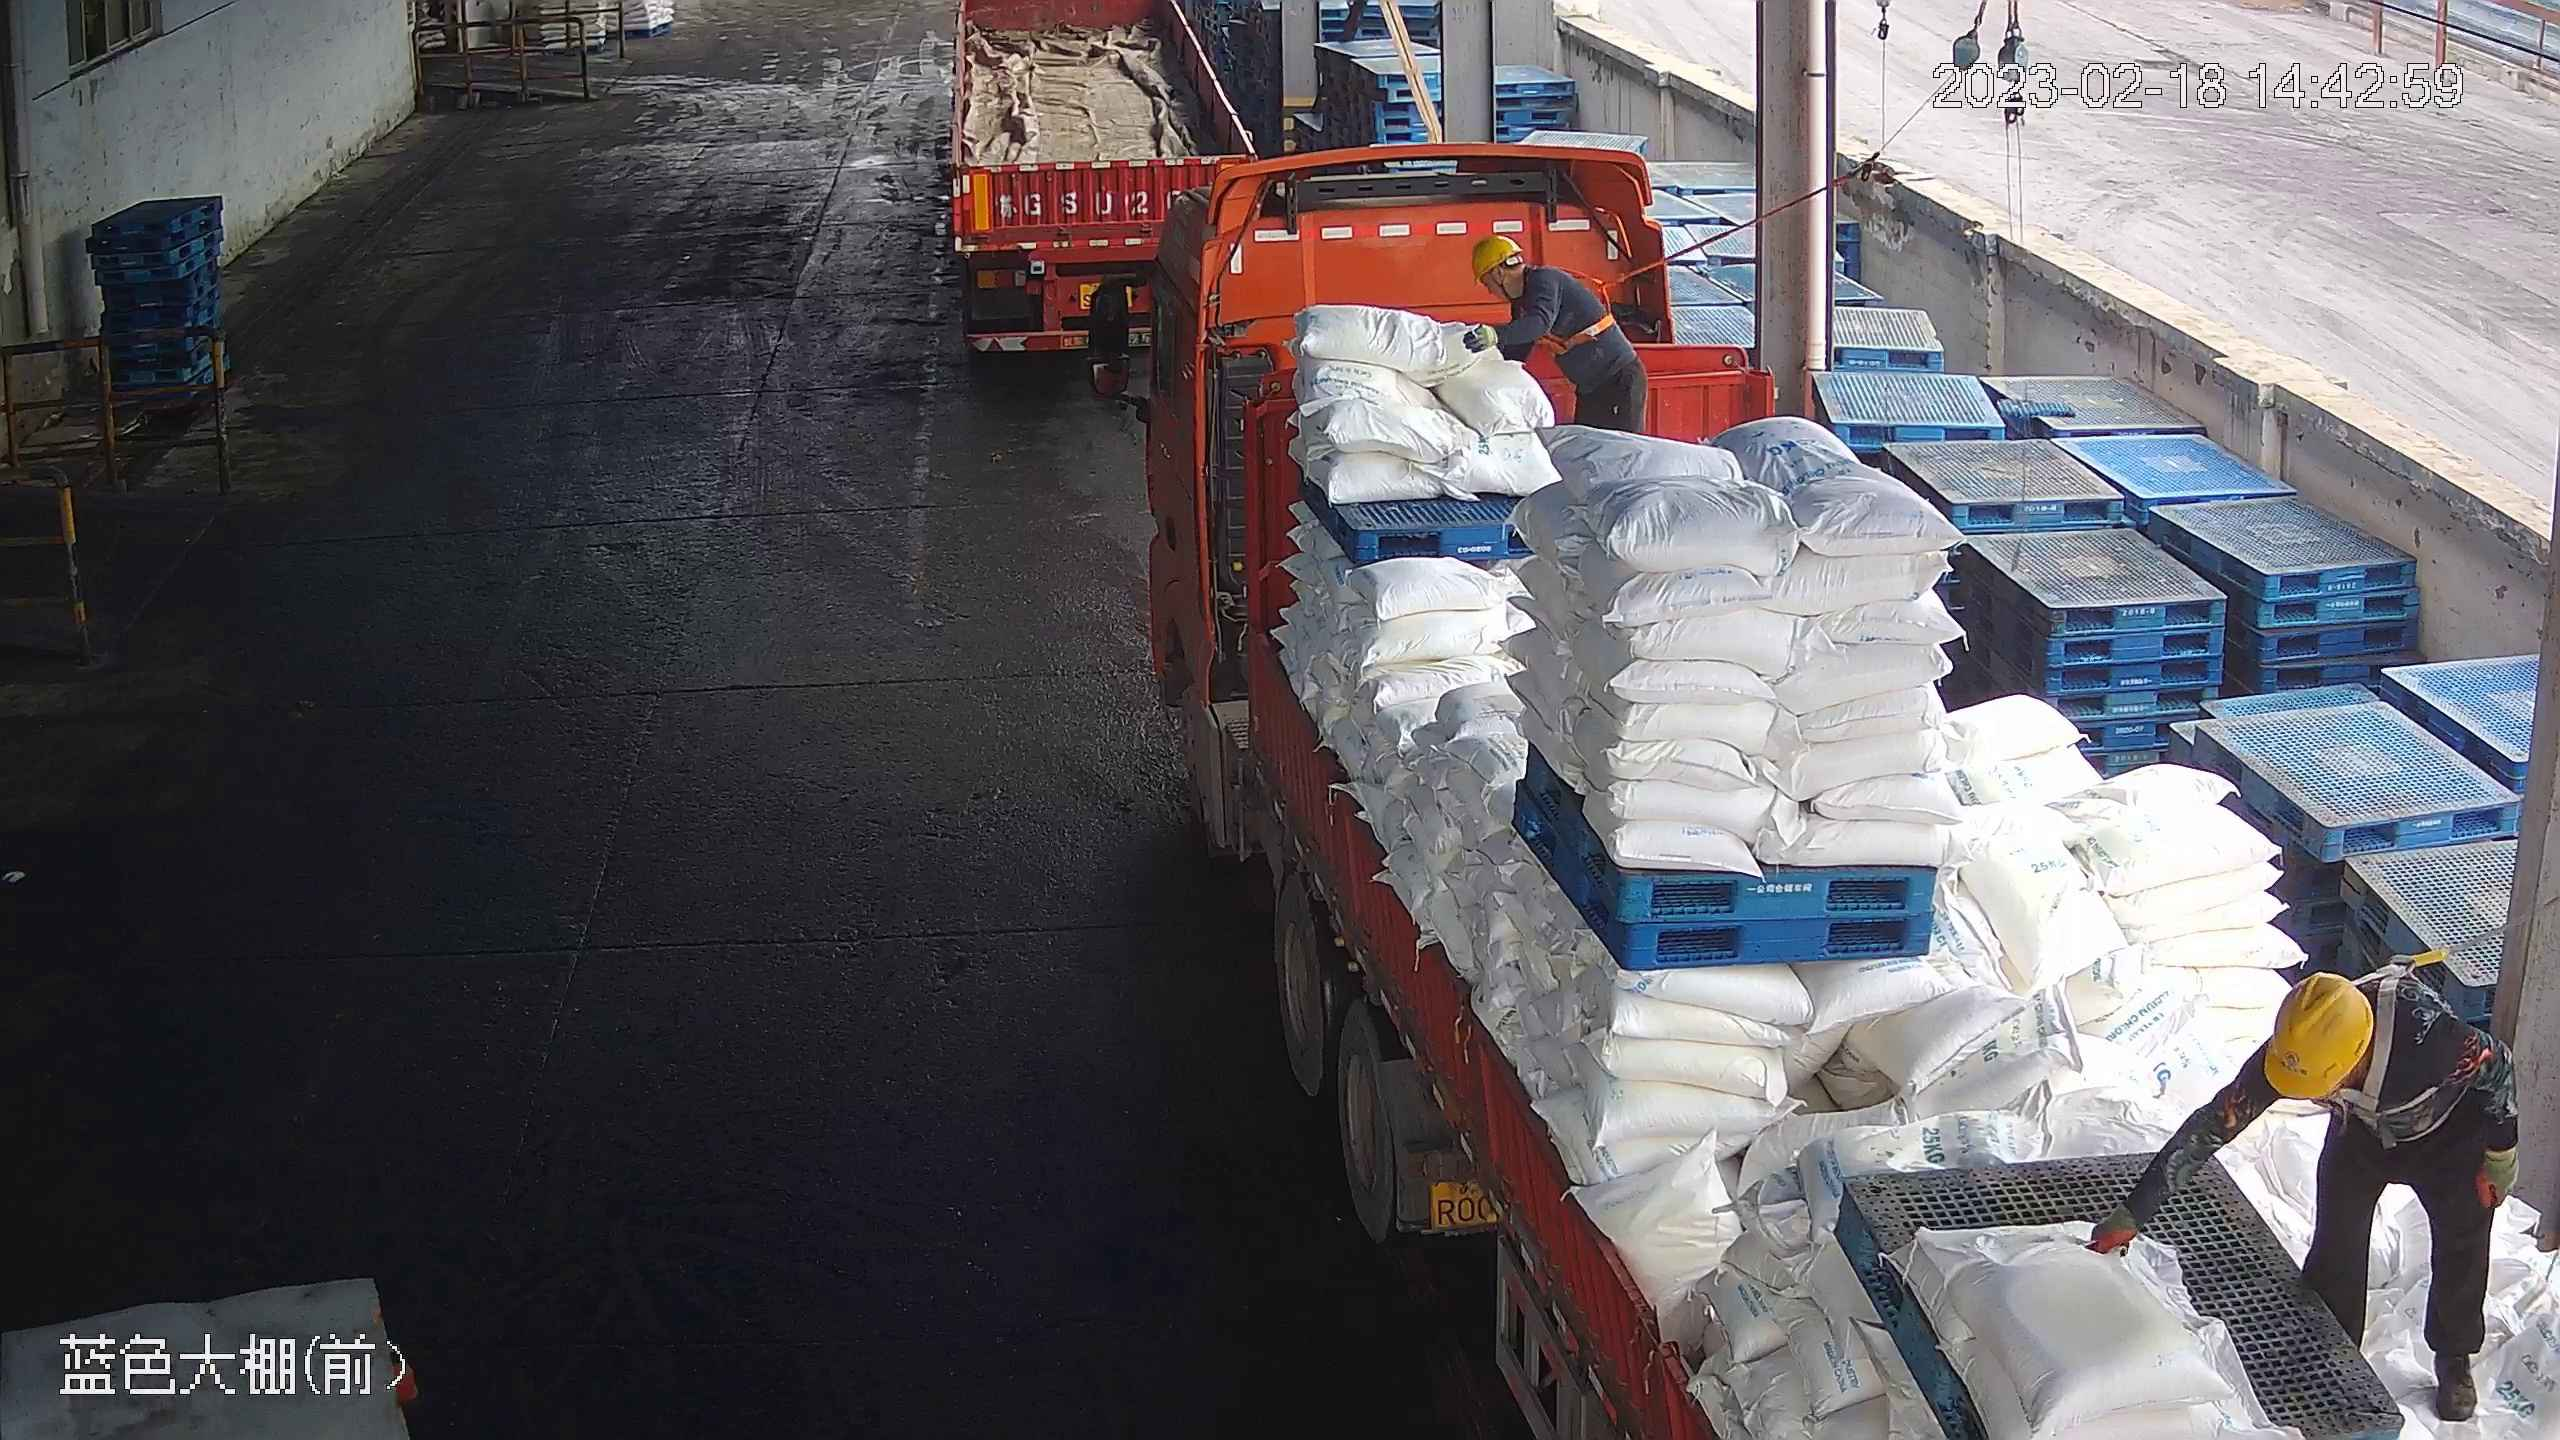belt: (2353, 949, 2479, 1137), (1535, 263, 1627, 352)
head: (2264, 963, 2455, 1127), (1466, 230, 1581, 321)
helmet: (2263, 973, 2372, 1103), (1465, 230, 1522, 284)
people: (2086, 958, 2528, 1417), (1464, 227, 1648, 434)
truck: (1084, 139, 2551, 1440), (942, 1, 1263, 357)
